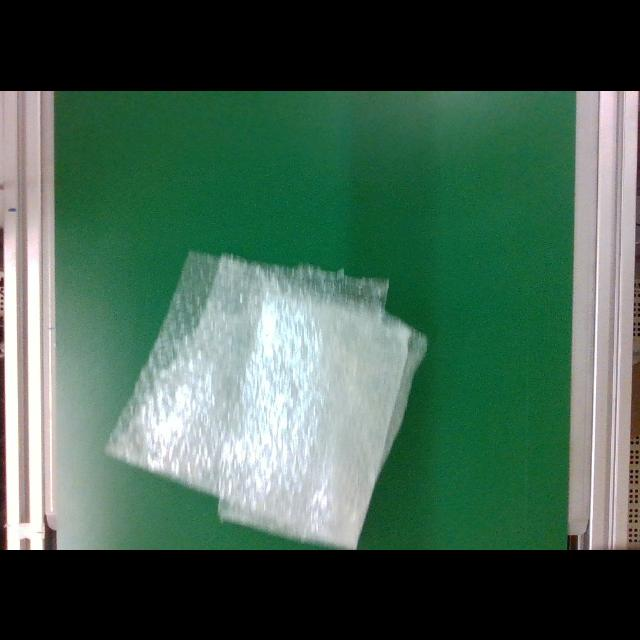scrap_plastic: (103, 250, 429, 548)
